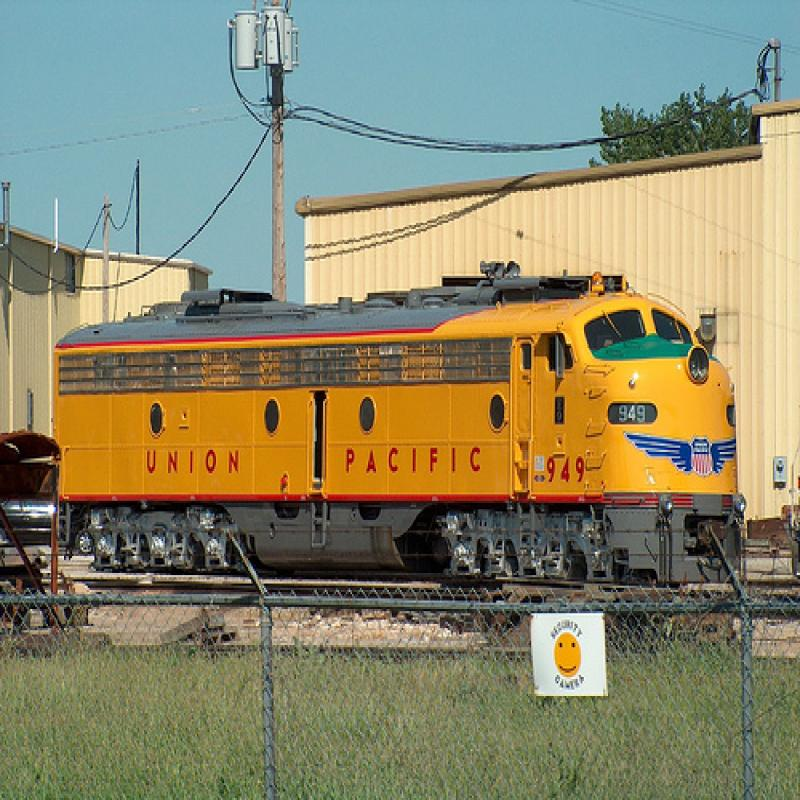train: (56, 271, 744, 585)
